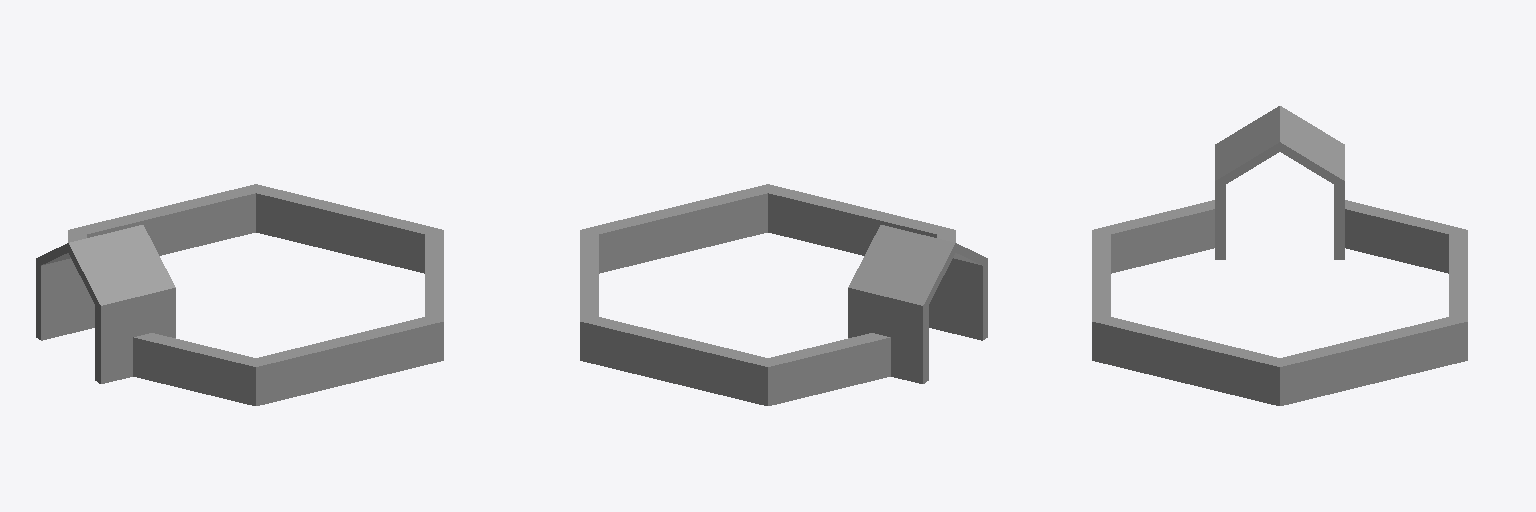
The model's file is octo_hut_walls.obj.
3 views of the same model, side by side, from view 1: azimuth 30°, elevation 25°; view 2: azimuth 150°, elevation 25°; view 3: azimuth 270°, elevation 25° (orthographic).
Visible parts, largest first — view 1: Octo_Hut_Walls; view 2: Octo_Hut_Walls; view 3: Octo_Hut_Walls.
Part boxes in pixels (x1,y1,x2,y2): Octo_Hut_Walls: (36, 184, 443, 405); Octo_Hut_Walls: (580, 184, 987, 405); Octo_Hut_Walls: (1092, 106, 1467, 405).
Bounding box in the file's own units: 10 × 3 × 8.66.